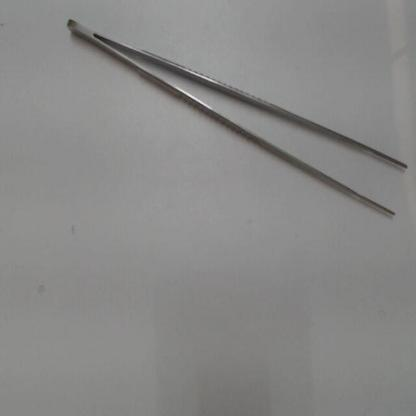DeBakey Dissector: (62, 11, 411, 231)
